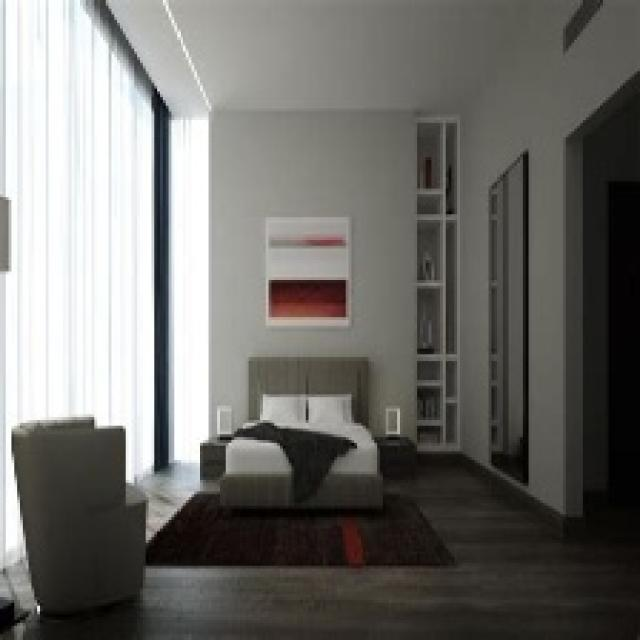Bed: (217, 354, 383, 512)
